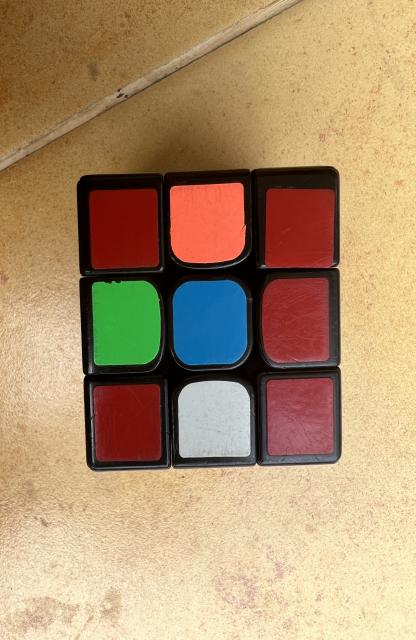Blue: (172, 280, 247, 365)
Green: (92, 280, 160, 365)
Orange: (170, 182, 246, 264)
Red: (262, 278, 329, 362), (89, 189, 159, 269), (265, 189, 335, 268), (93, 384, 161, 461), (266, 378, 334, 455)
White: (178, 380, 250, 458)
